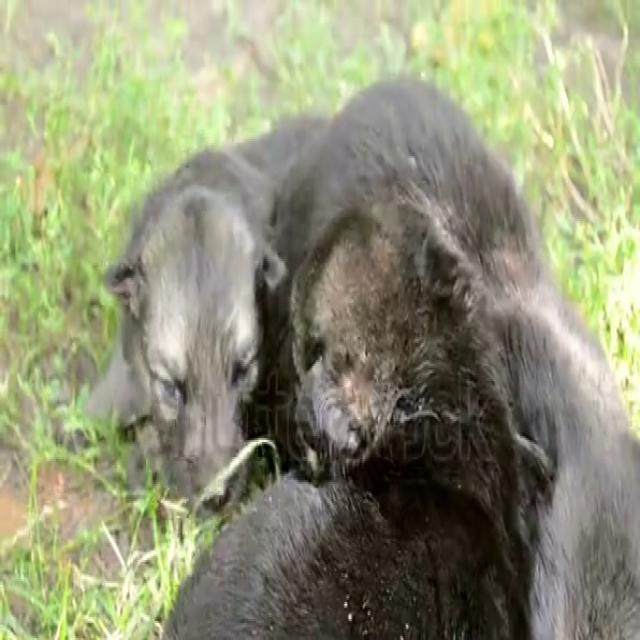normal_animals: (85, 71, 637, 636)
